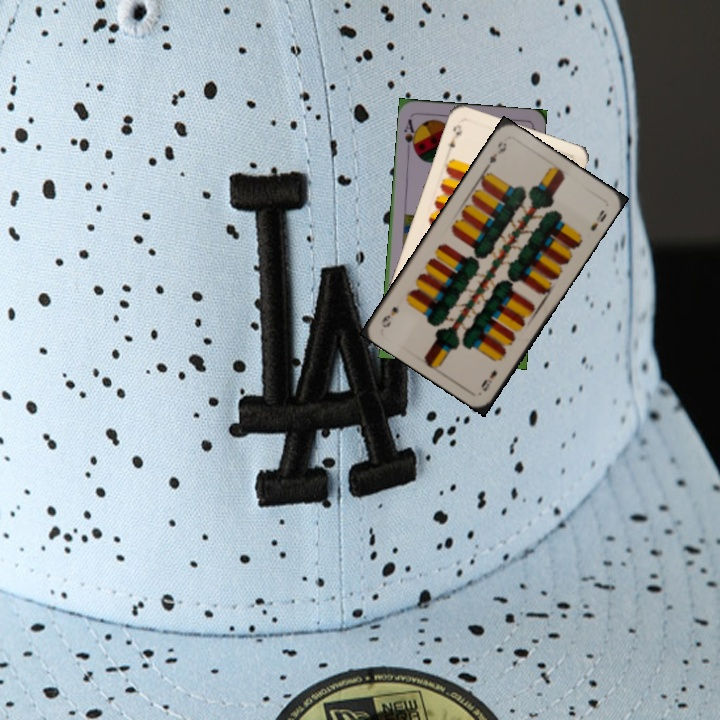E9: (481, 138, 509, 172), (477, 366, 500, 394), (445, 120, 465, 150)
SA: (400, 115, 420, 155)
